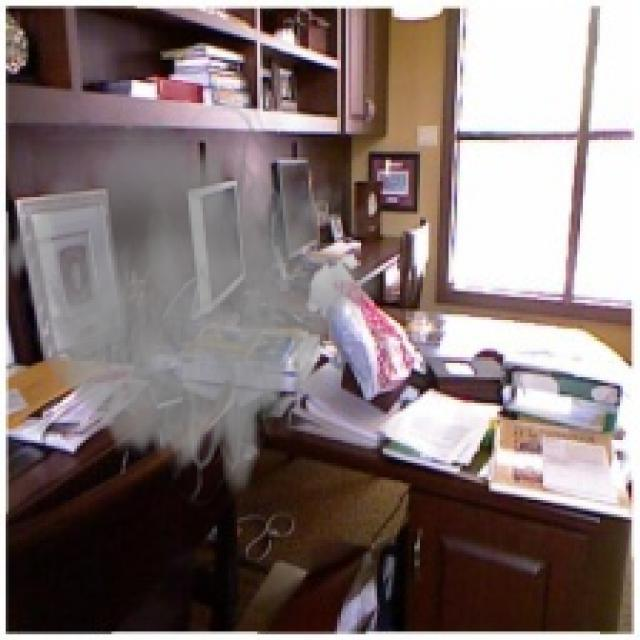Smoke: (3, 82, 383, 508)
